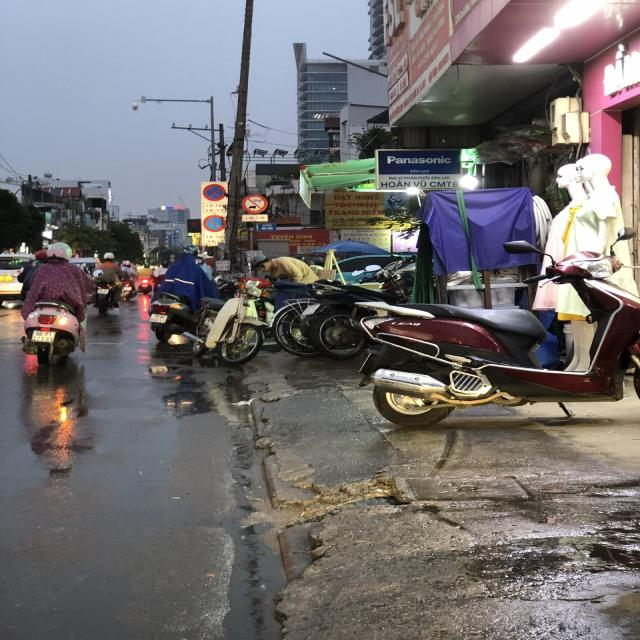Bien bao cam dung xe va do xe: (202, 182, 228, 202)
Bien bao cam xe oto khach va xe oto tai: (240, 192, 270, 214)
